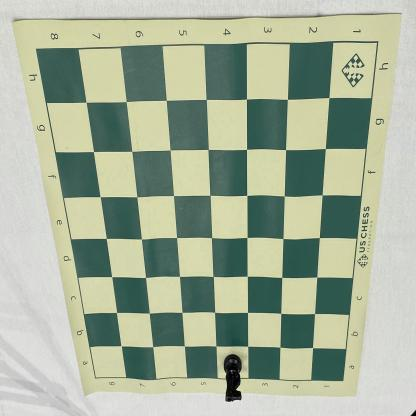black-knight: (222, 352, 244, 404)
